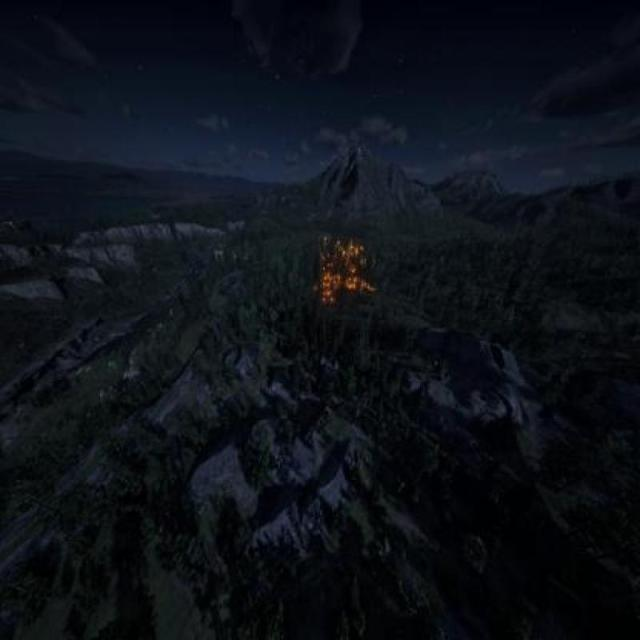Fire: (316, 229, 378, 316)
